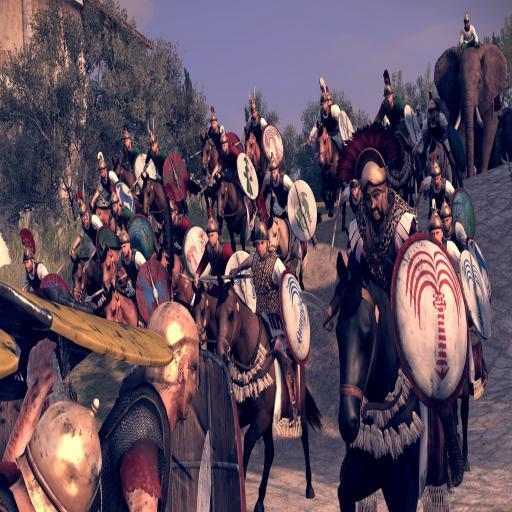horse: (70, 124, 326, 512), (334, 246, 450, 512), (314, 120, 344, 232), (450, 385, 474, 471), (425, 138, 457, 186)
